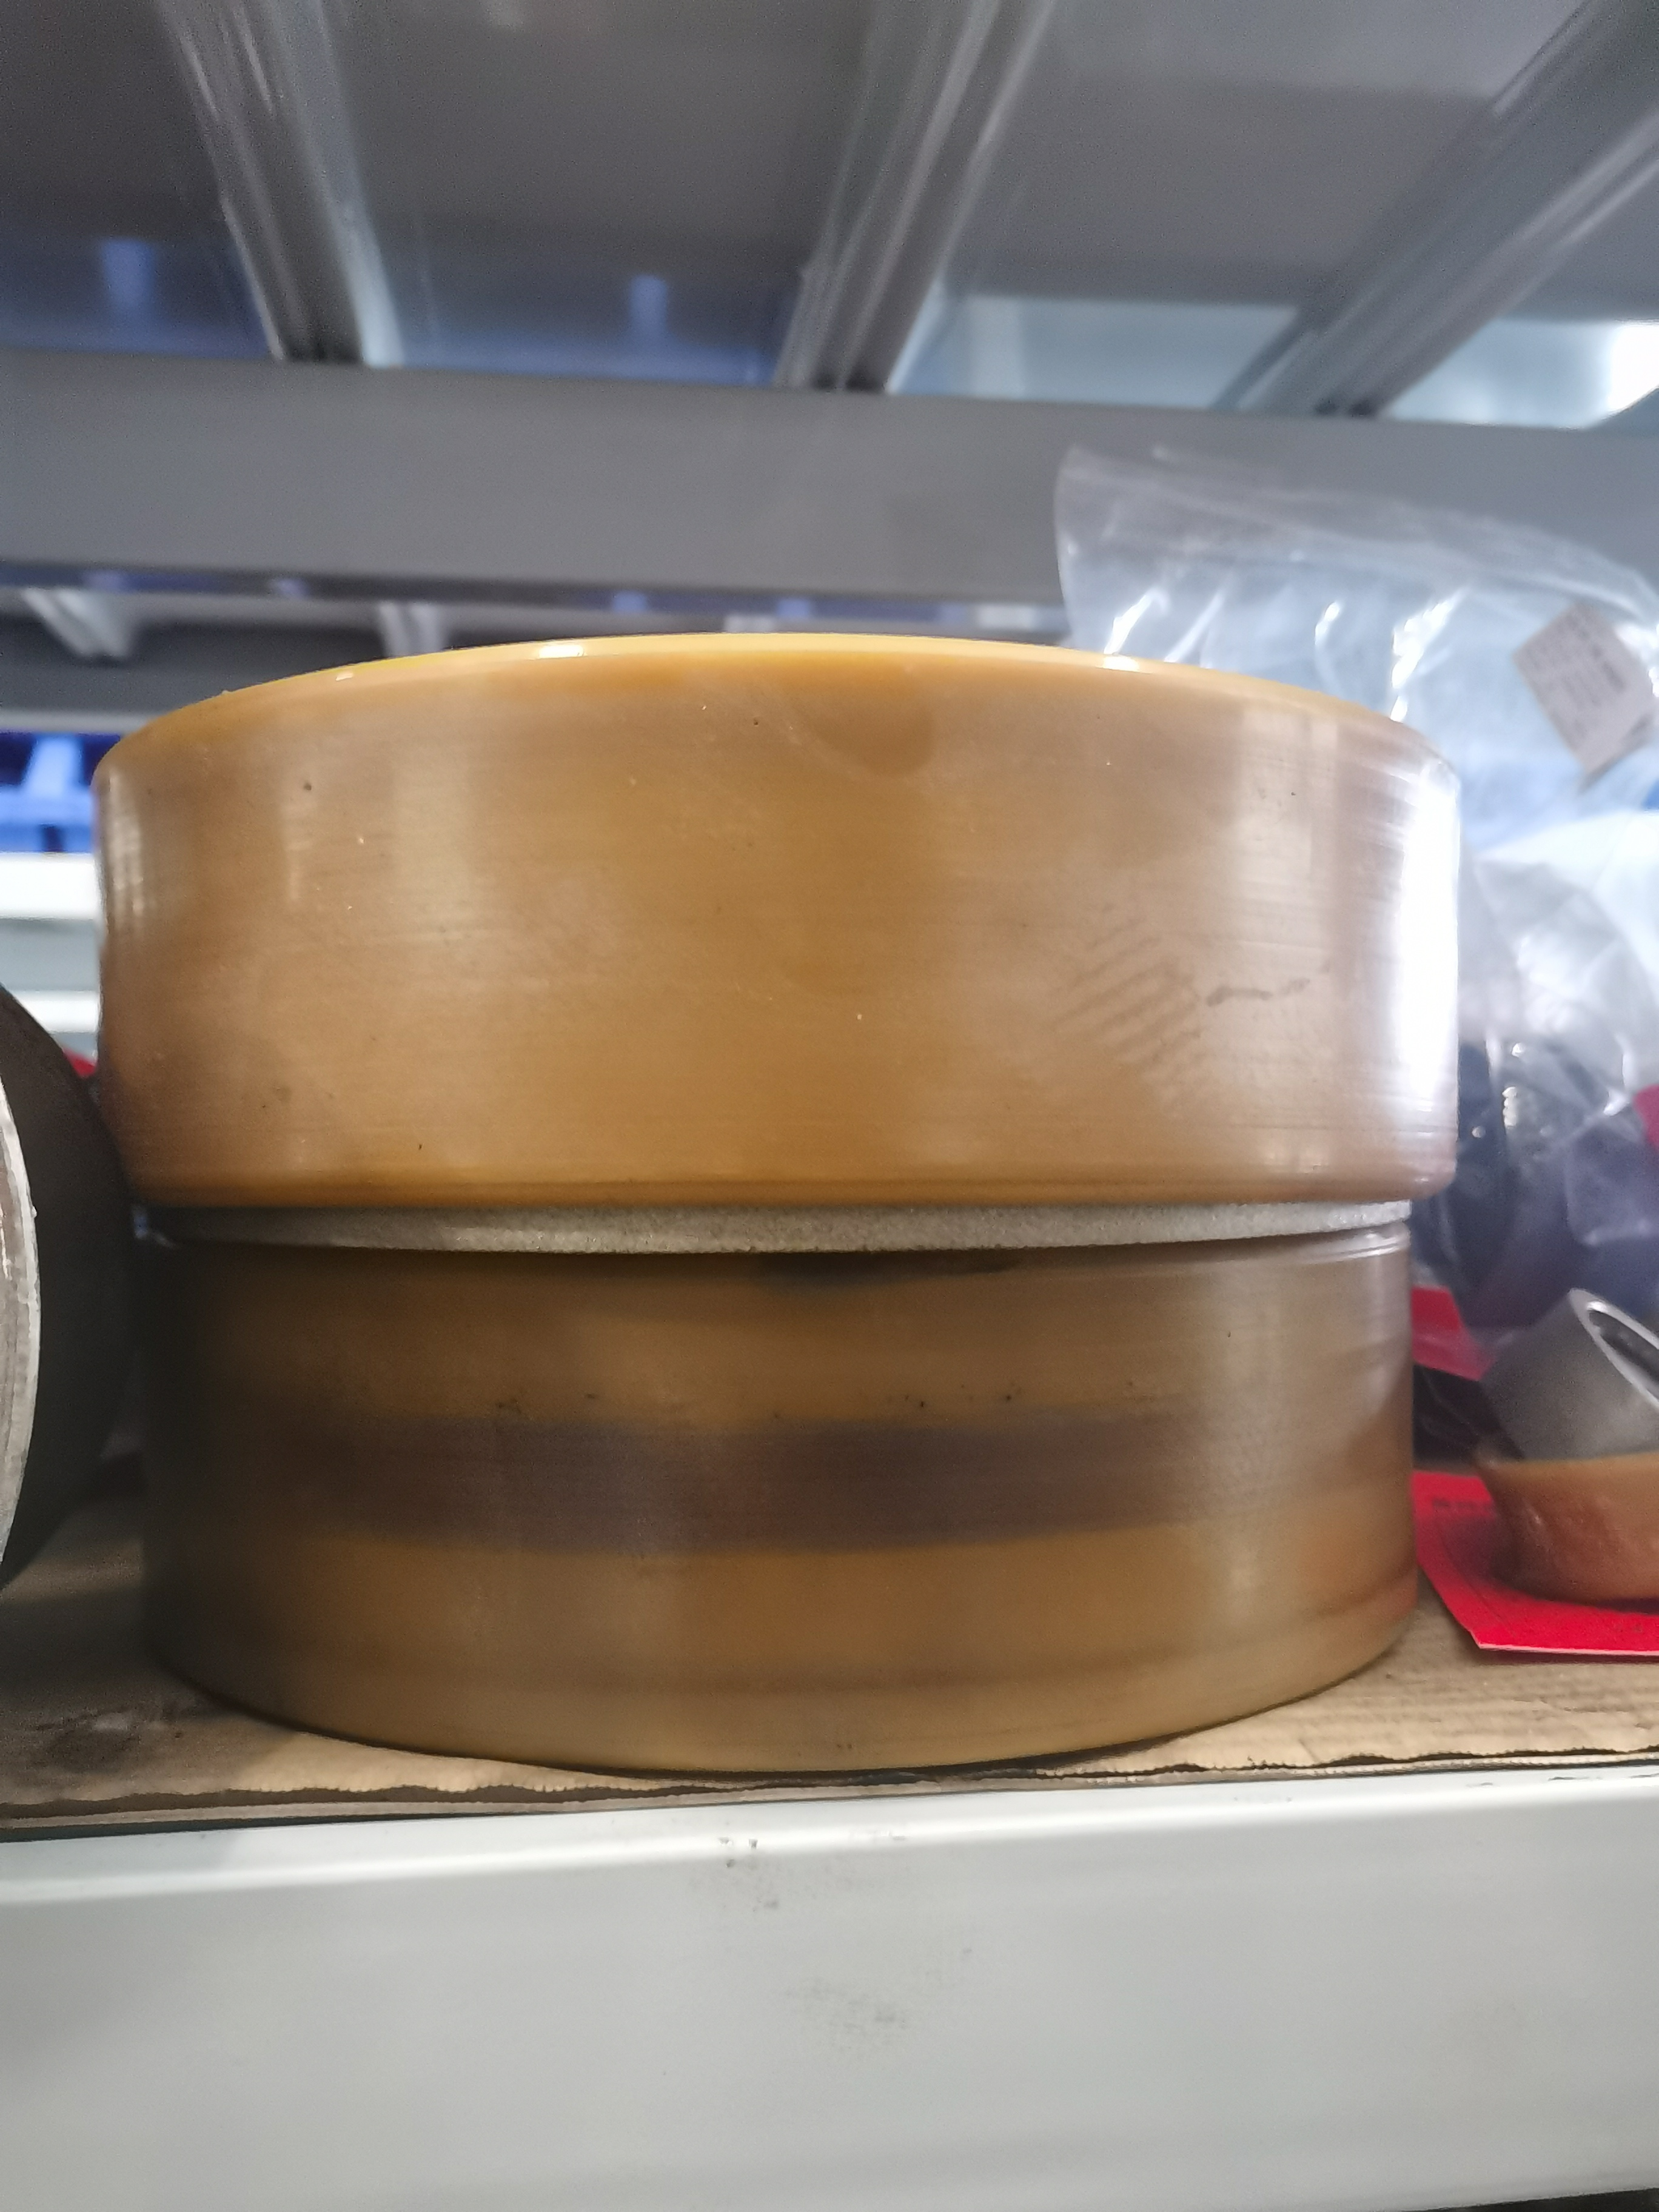bad_wheel: (200, 1150, 1326, 1270)
